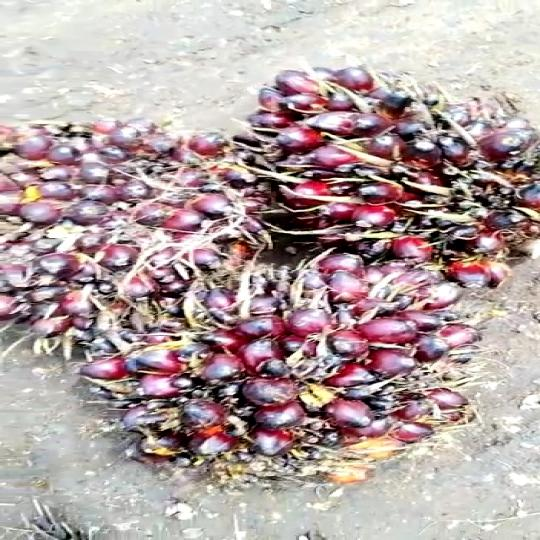kurang masak: (111, 265, 495, 488), (216, 59, 540, 300), (0, 117, 287, 337)
